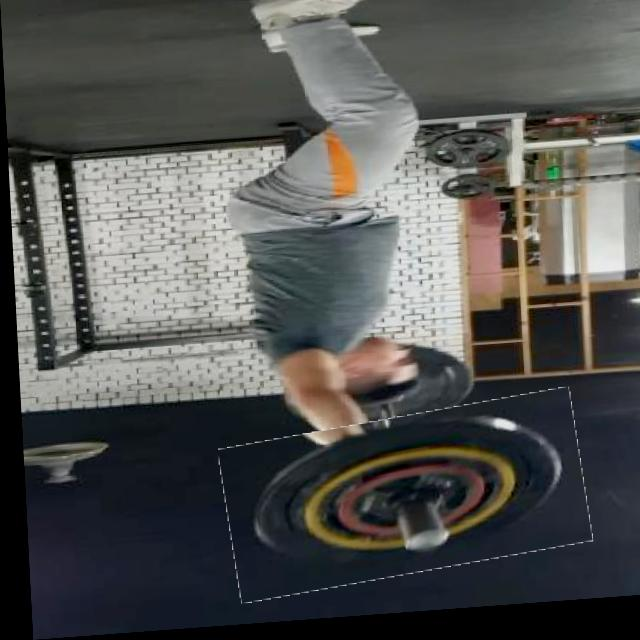barbell: (216, 405, 585, 599)
